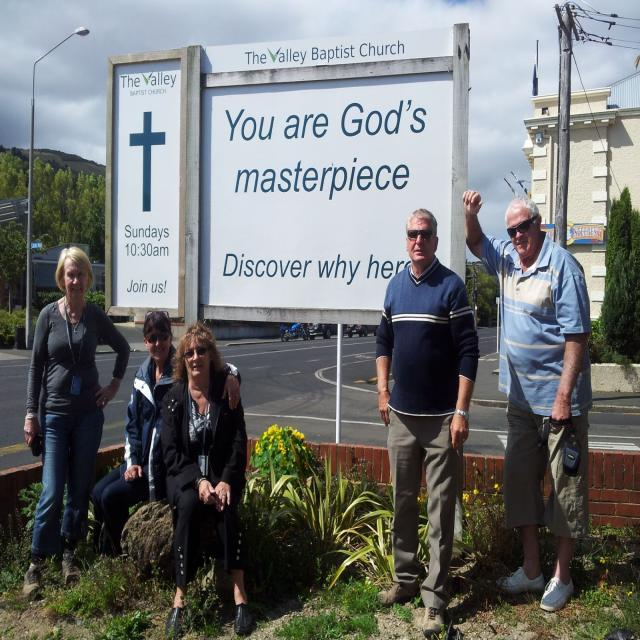body: (459, 184, 597, 616), (373, 207, 482, 639), (18, 243, 133, 603), (90, 309, 242, 560), (158, 317, 256, 639)
